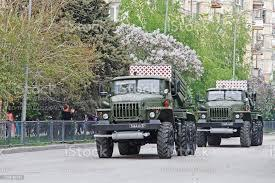MIL_SAM_TEL: (92, 62, 196, 162), (195, 81, 265, 145)
